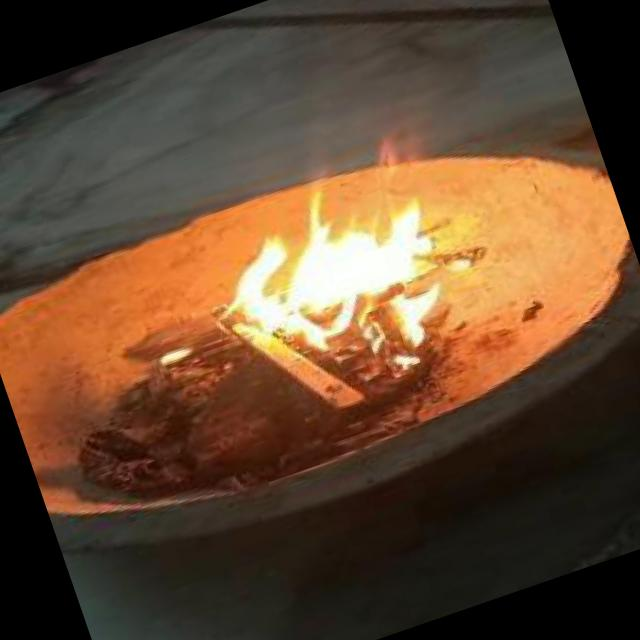fire: (134, 104, 502, 431)
